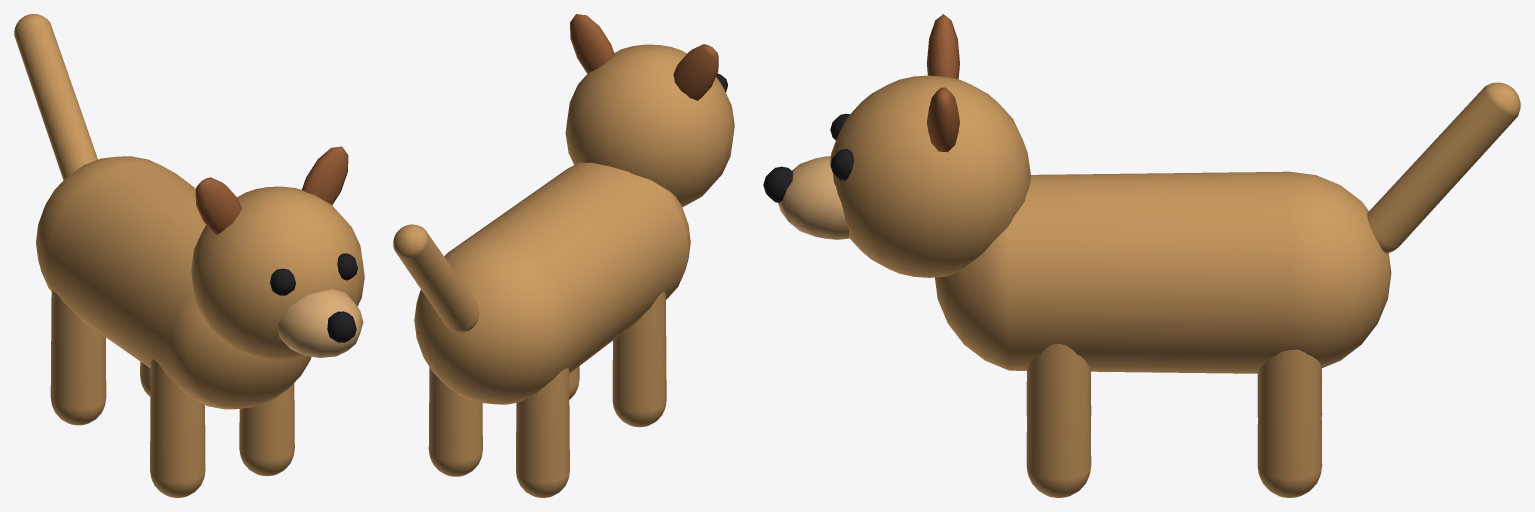
File: aso.glb
3 views of the same model, side by side, from view 1: azimuth 30°, elevation 25°; view 2: azimuth 150°, elevation 25°; view 3: azimuth 270°, elevation 25° (orthographic). The views are drawn at different scales.
Visible parts, largest first — view 1: Aso; view 2: Aso; view 3: Aso.
Boxes of the visible parts, x1,y1,x2,y2 form: Aso: (14, 14, 364, 497); Aso: (393, 14, 734, 497); Aso: (763, 14, 1520, 497).
Size of the model in its own units: 0.44 by 0.9938 by 1.64.
